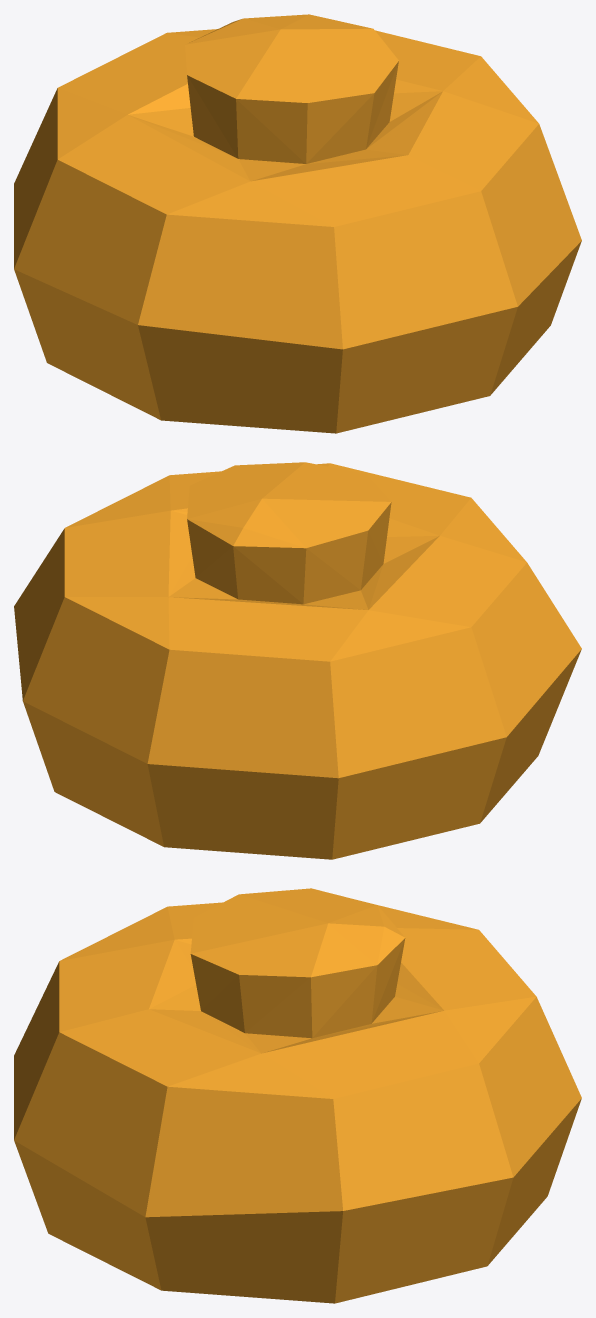
The model's file is SM_Mushroom_Grilled.fbx.
3 renders of one model, top to bottom at view 1: azimuth 30°, elevation 25°; view 2: azimuth 150°, elevation 25°; view 3: azimuth 270°, elevation 25°, orthographic. The views are drawn at different scales.
Parts seen in each view (by area): view 1: mushroom-grilled; view 2: mushroom-grilled; view 3: mushroom-grilled.
Boxes of the visible parts, bbox=[...] form: mushroom-grilled: bbox=[14, 14, 581, 433]; mushroom-grilled: bbox=[14, 462, 581, 859]; mushroom-grilled: bbox=[14, 888, 581, 1303].
Size of the model in its own units: 0.0925 by 0.0557 by 0.0897.
